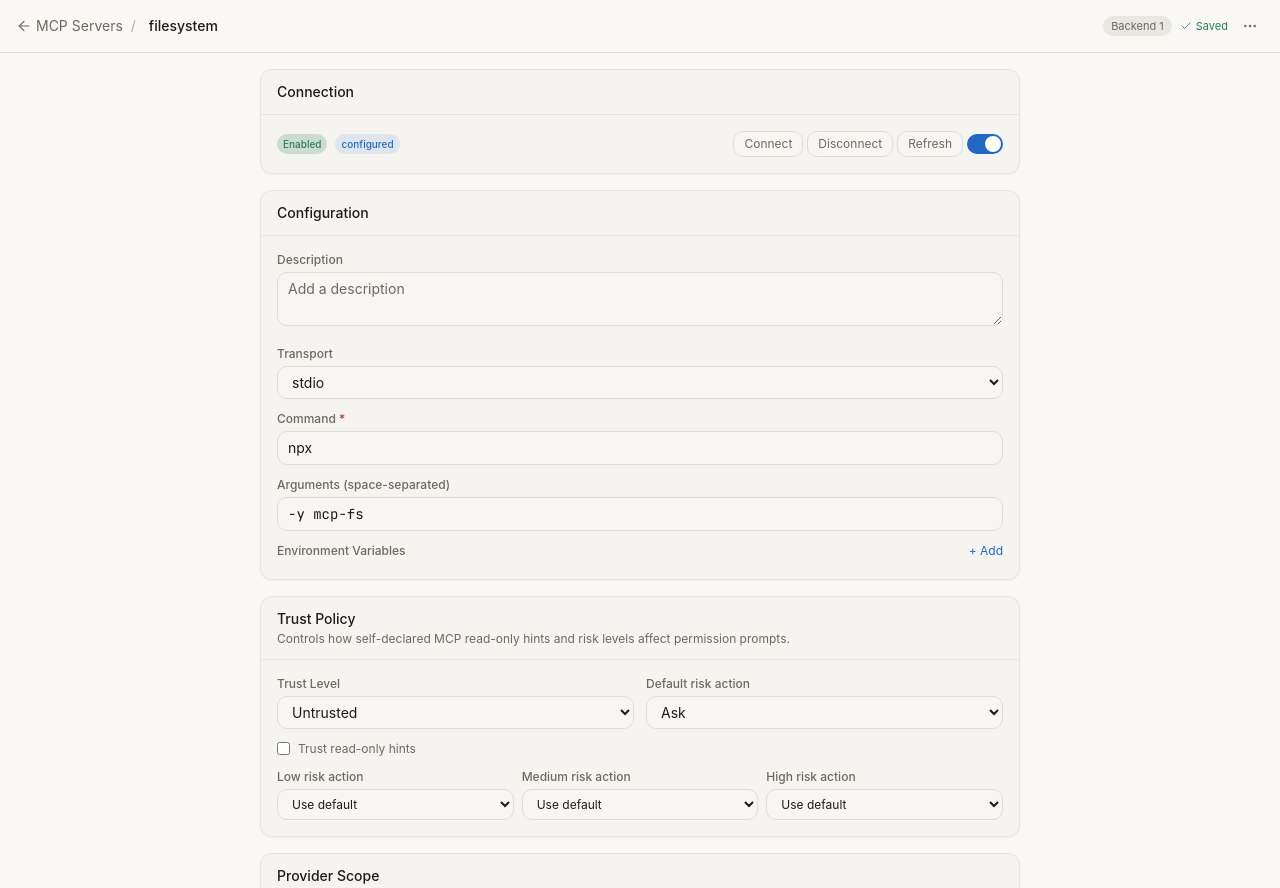
it: McpServerEditor › surfaces a failed save via the save-state indicator and an inline error
Replace the text in the field showing "filesystem" with "renamed": (183, 26) left=144, top=13, right=223, bottom=39
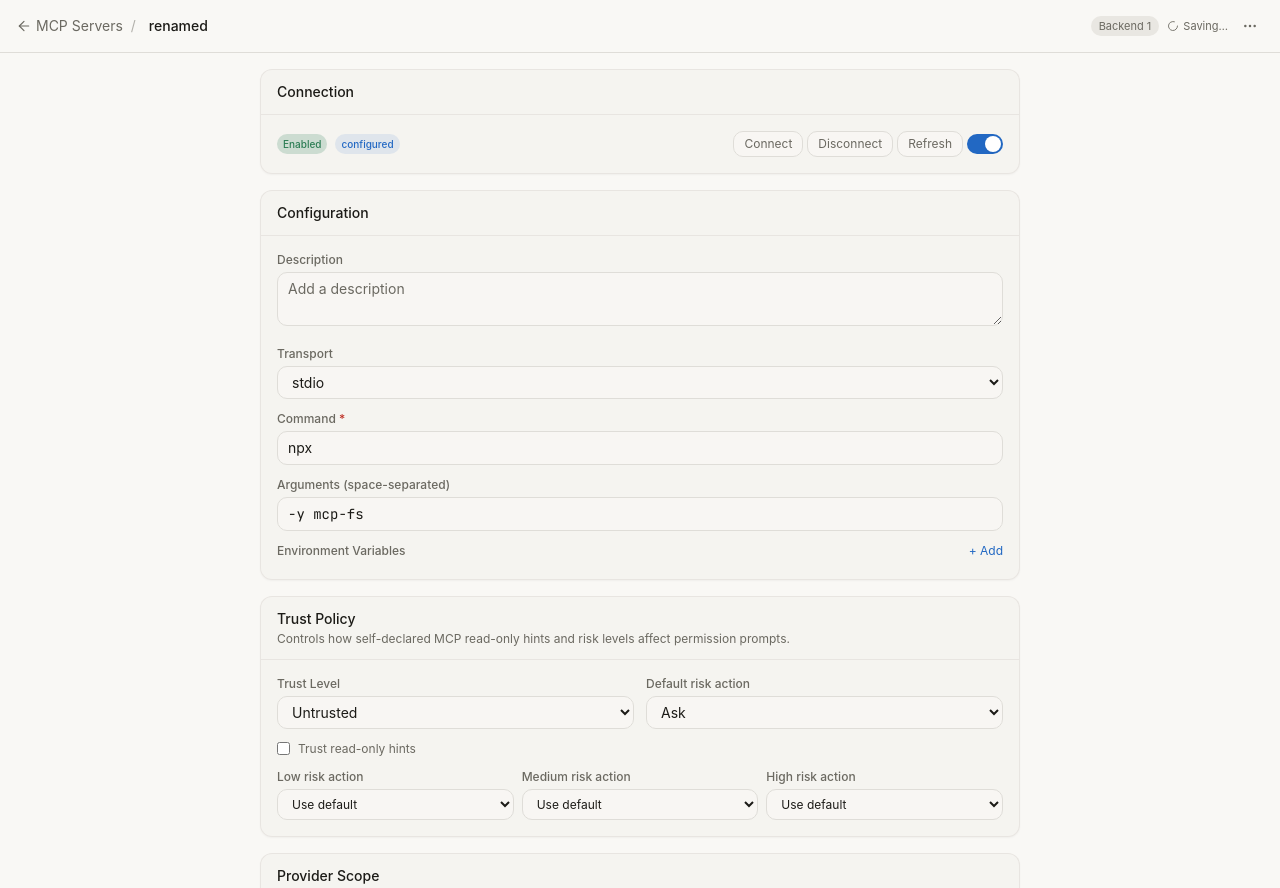
Leave the field showing "filesystem", box left=144, top=13, right=213, bottom=39
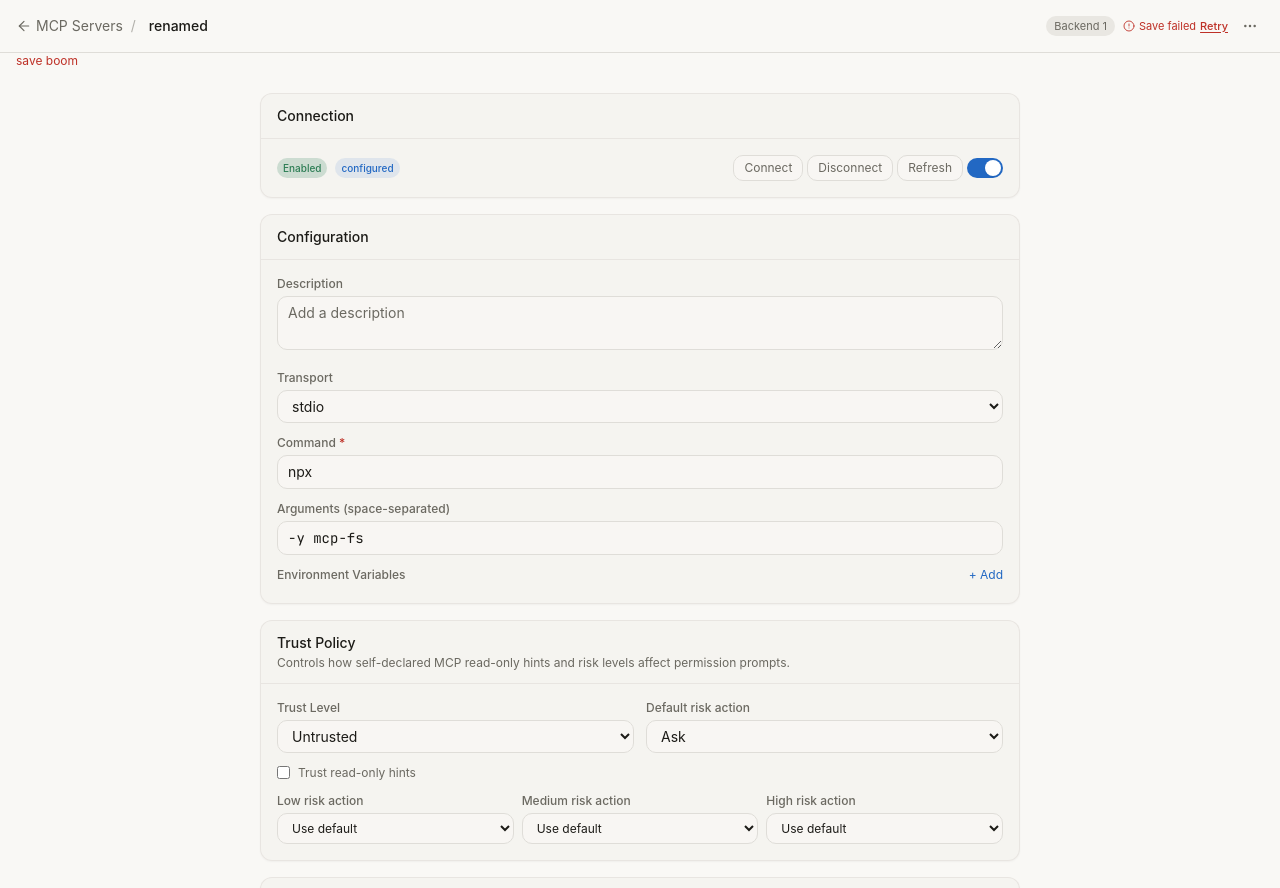
Check: the text "save boom" is shown, box left=16, top=53, right=78, bottom=68
Check: the element with test id "save-state" shows "Save failed", box left=1139, top=19, right=1196, bottom=33
